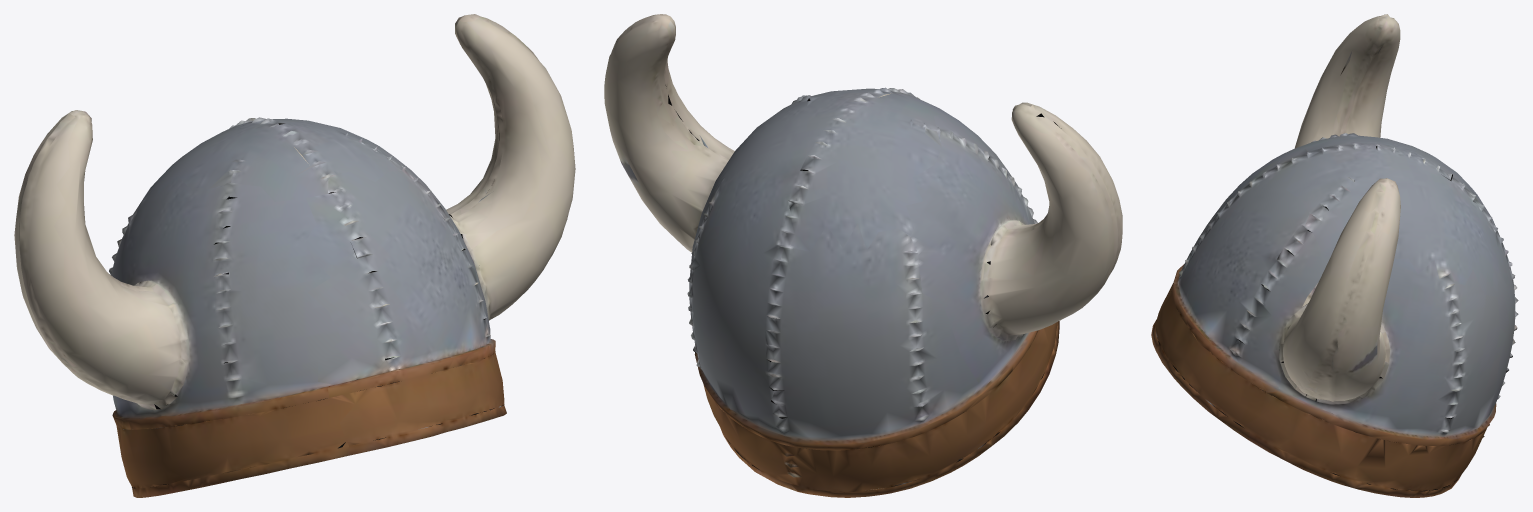
Rendered from viking.glb.
3 views of the same model, side by side, from view 1: azimuth 30°, elevation 25°; view 2: azimuth 150°, elevation 25°; view 3: azimuth 270°, elevation 25° (orthographic). The views are drawn at different scales.
Parts seen in each view (by area): view 1: node_0; view 2: node_0; view 3: node_0.
Part boxes in pixels (box(x1,y1,x2,y2)): node_0: box(14, 14, 575, 497); node_0: box(604, 14, 1122, 497); node_0: box(1151, 14, 1518, 497).
Bounding box in the file's own units: 0.46 × 0.3507 × 0.3146.
Materials: 1 (1 with a texture image).
